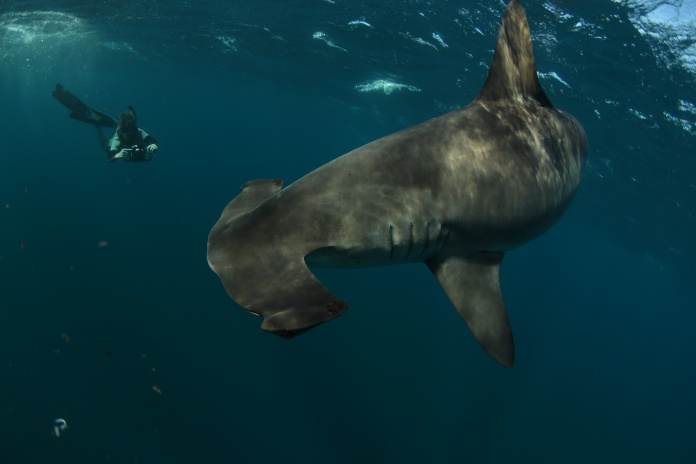Hammer: (191, 9, 616, 377)
